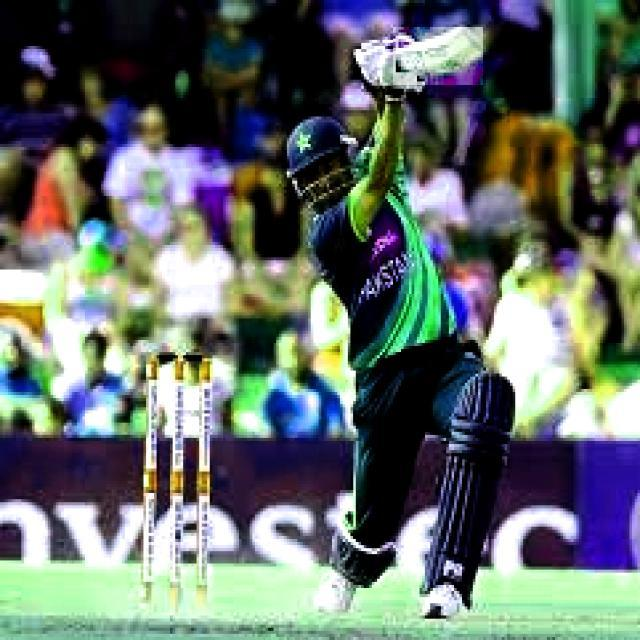bat: (390, 30, 485, 87)
toe: (468, 19, 490, 56)
